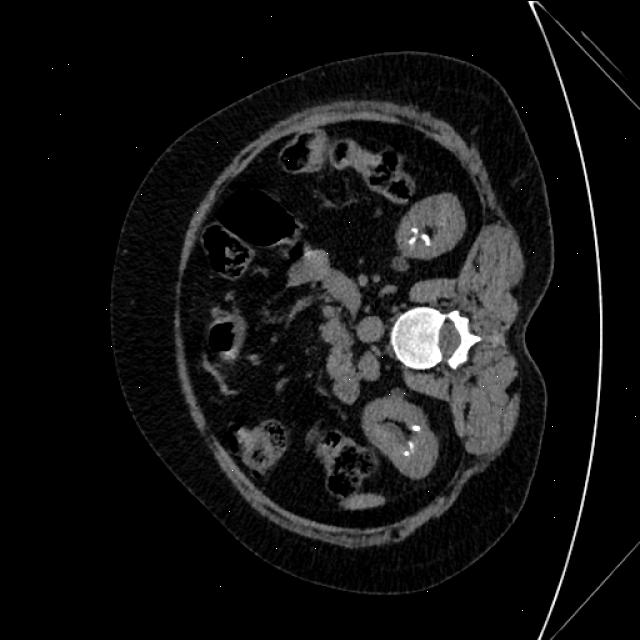kidneystone: (421, 232, 431, 245), (409, 236, 417, 244), (412, 424, 421, 431)
